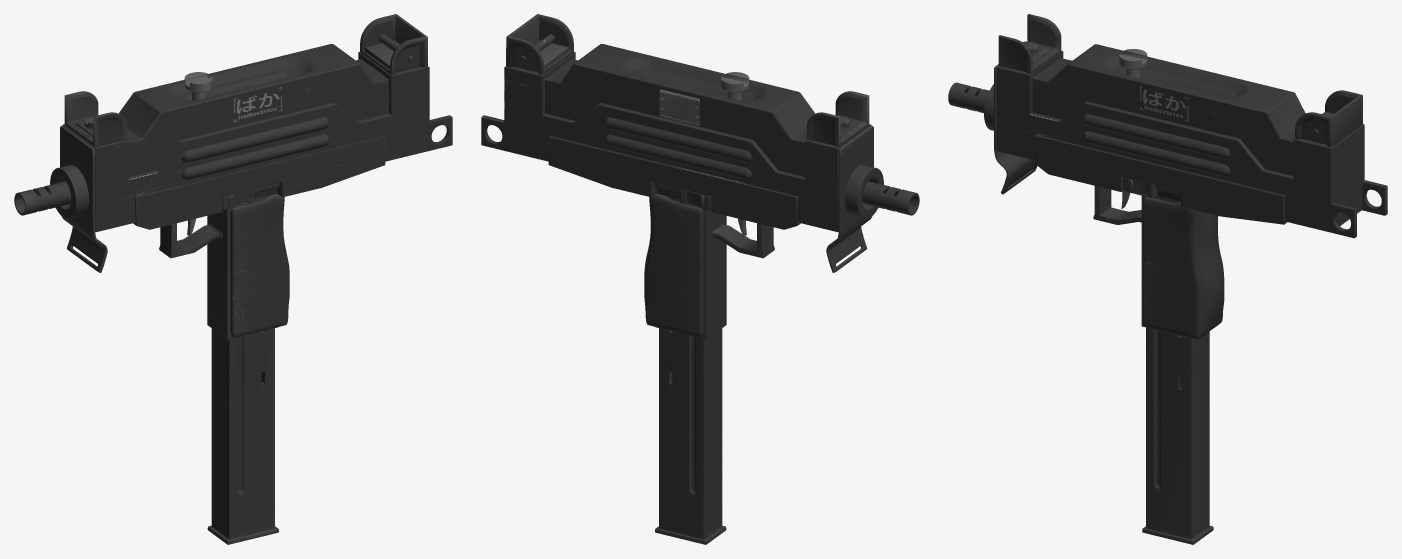
File: Uzi.gltf
The picture shows the model from 3 angles, left to right: view 1: azimuth 30°, elevation 25°; view 2: azimuth 150°, elevation 25°; view 3: azimuth 330°, elevation 25°; orthographic projection.
Parts seen in each view (by area): view 1: Cube.014, Cube.001, Cube.017, Cube.016, Cube.019, Cube.013, Cube.015, Cylinder.004, Cylinder.003, Cube.023; view 2: Cube.014, Cube.001, Cube.017, Cube.016, Cube.019, Cube.013, Cube.015, Cube.023, Cylinder.004, Cylinder.003; view 3: Cube.014, Cube.001, Cube.017, Cube.019, Cube.015, Cube.016, Cube.013, Cylinder.004, Cube.023.
Boxes of the visible parts, x1,y1,x2,y2 form: Cube.014: (62, 44, 452, 231); Cube.001: (207, 328, 278, 544); Cube.017: (230, 194, 289, 337); Cube.016: (159, 196, 278, 339); Cube.019: (360, 14, 427, 74); Cube.013: (60, 125, 107, 272); Cube.015: (64, 91, 127, 147); Cylinder.004: (14, 181, 71, 215); Cylinder.003: (50, 165, 89, 219); Cube.023: (184, 72, 212, 100); Cube.014: (481, 44, 871, 231); Cube.001: (655, 328, 726, 544); Cube.017: (644, 194, 703, 337); Cube.016: (655, 196, 774, 339); Cube.019: (506, 14, 573, 74); Cube.013: (826, 125, 873, 272); Cube.015: (806, 91, 869, 147); Cube.023: (659, 72, 749, 124); Cylinder.004: (862, 181, 919, 215); Cylinder.003: (844, 165, 883, 219); Cube.014: (996, 44, 1387, 238); Cube.001: (1142, 327, 1213, 544); Cube.017: (1143, 196, 1224, 339); Cube.019: (1295, 90, 1362, 147); Cube.015: (998, 14, 1061, 74); Cube.016: (1093, 186, 1192, 338); Cube.013: (994, 64, 1037, 194); Cylinder.004: (948, 82, 988, 113); Cube.023: (1119, 49, 1147, 77).
Bounding box in the file's own units: 1.41 × 1.51 × 0.2237.
1 material, 1 textured.
